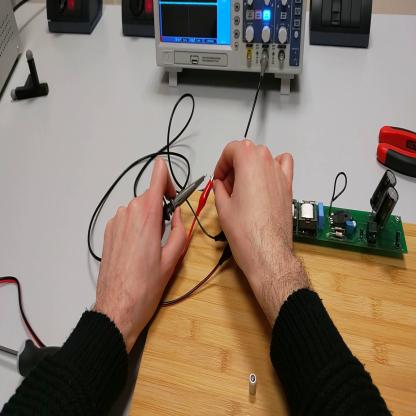hand: (94, 156, 186, 335), (213, 138, 297, 283)
high voltage board: (210, 170, 408, 258)
oscilloscope: (154, 3, 306, 99)
oscilloscope probe tip: (164, 176, 208, 224)
pliers: (377, 127, 416, 177)
power supply: (2, 3, 26, 101)
screwdriver-: (3, 336, 66, 376)
socket: (46, 3, 103, 34), (122, 2, 156, 42)
working area: (130, 187, 416, 415)
